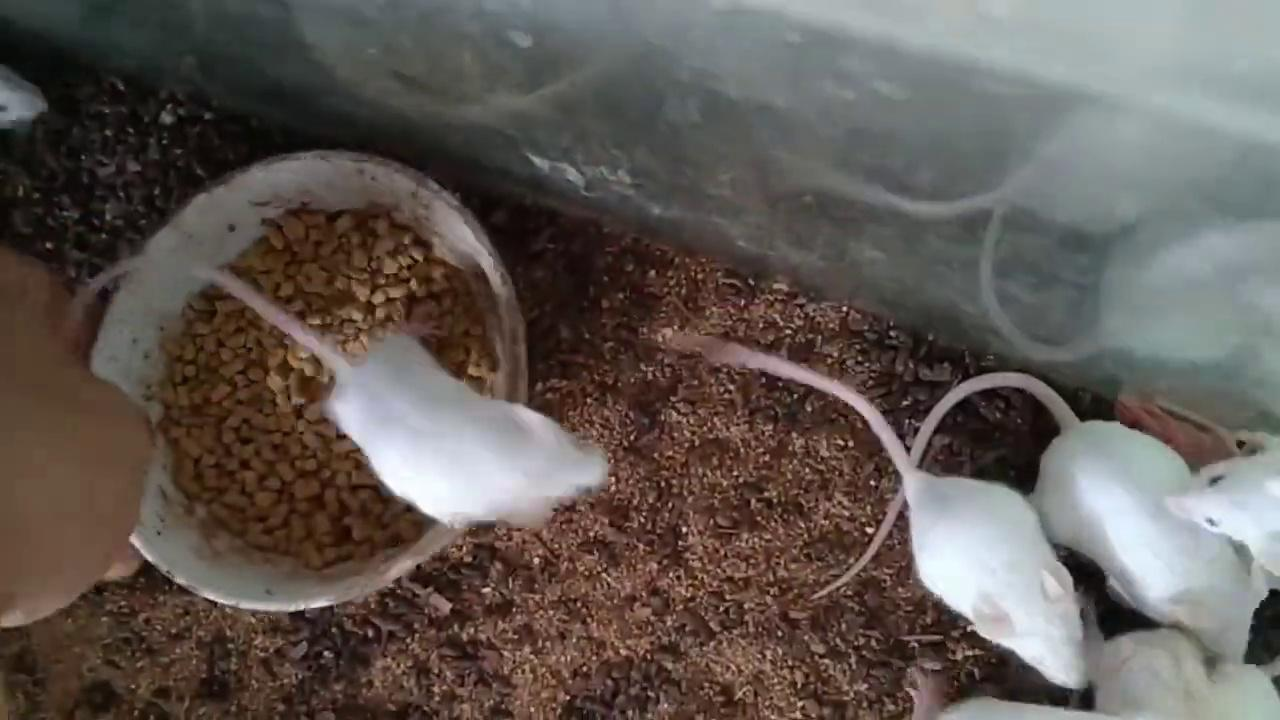rat: (46, 251, 612, 535), (659, 326, 1093, 690), (813, 367, 1250, 661), (1168, 438, 1280, 582)
